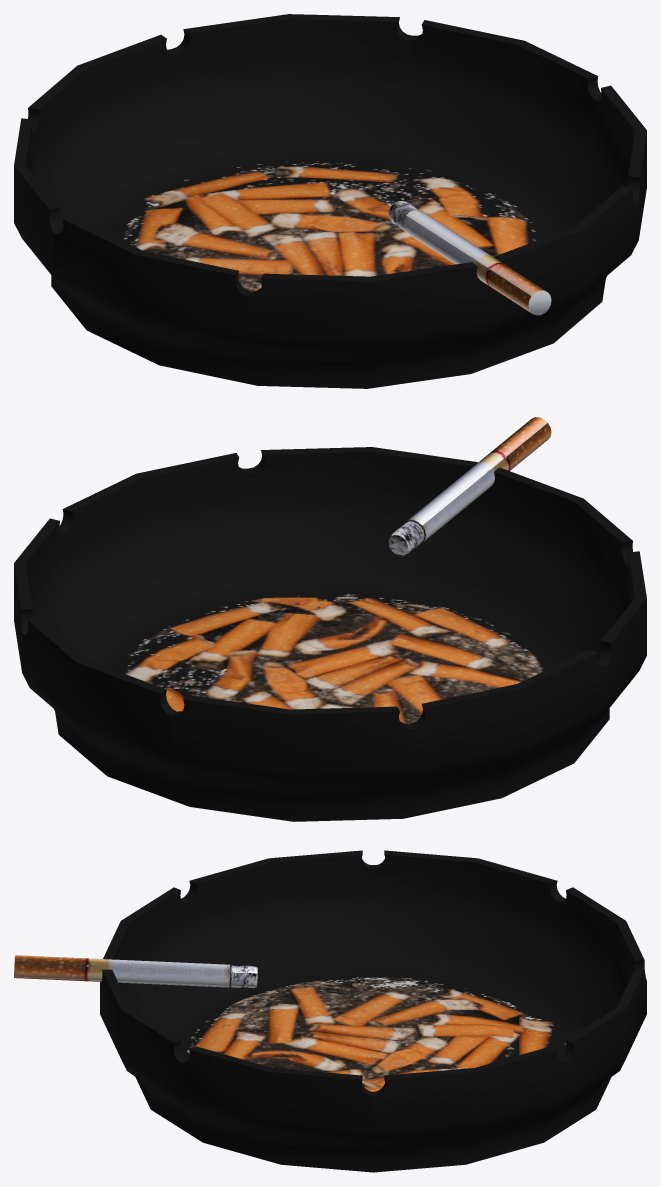
File: Ashtray.fbx
The picture shows the model from 3 angles, top to bottom: view 1: azimuth 30°, elevation 25°; view 2: azimuth 150°, elevation 25°; view 3: azimuth 270°, elevation 25°; orthographic projection. The views are drawn at different scales.
Visible parts, largest first — view 1: Circle; view 2: Circle; view 3: Circle.
Boxes of the visible parts, left/top/right/bottom form: Circle: left=14, top=14, right=646, bottom=388; Circle: left=14, top=417, right=646, bottom=821; Circle: left=14, top=850, right=646, bottom=1172.
Size of the model in its own units: 22.69 by 5.23 by 26.25.
